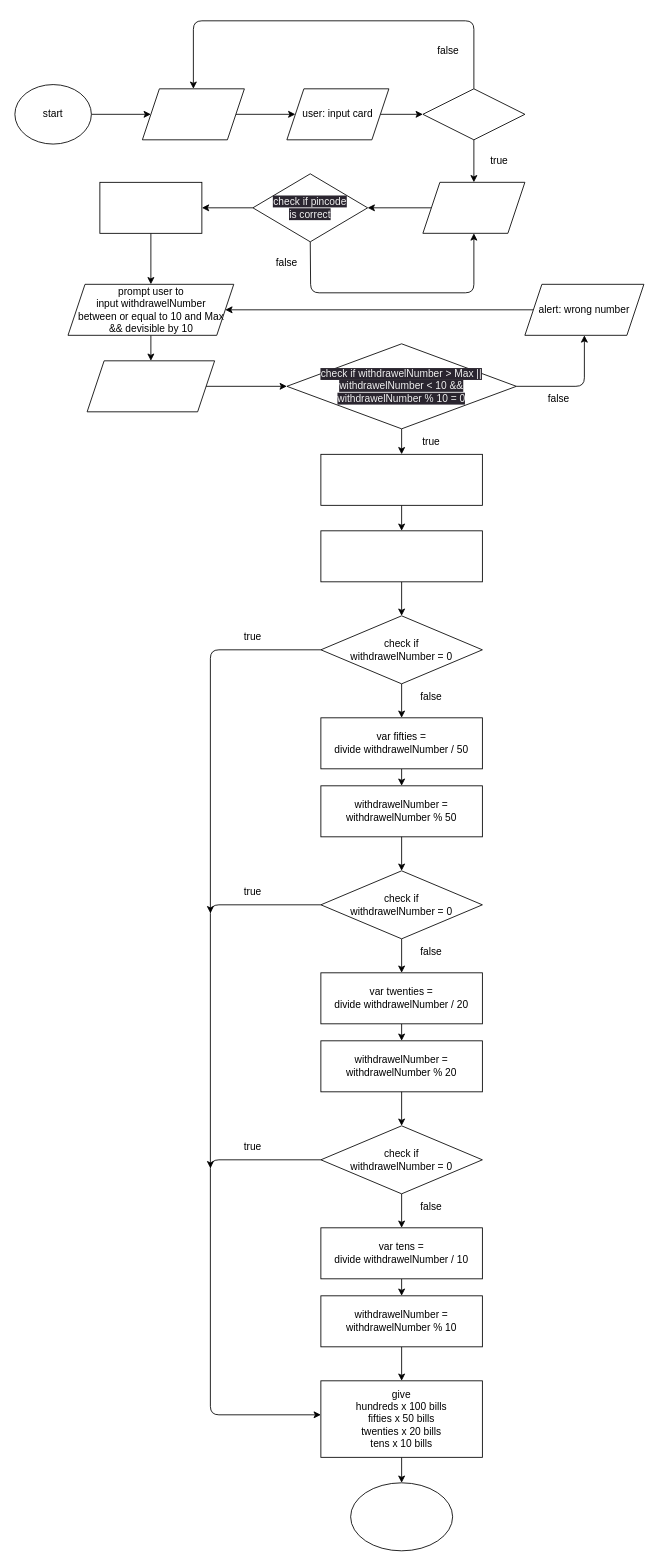
Image size: 659x1566. Some labels were removed from this diagram. Here are the shapes that lost their labels. From the top down, the centre of each, then its label:
At point 193,114: "prompt user to insert card".
At point 473,114: "check if card is there".
At point 150,207: "check Max number".
At point 473,207: "prompt user to input pincode".
At point 150,386: "user: input withdrawelNumber".
At point 401,479: "var hundreds = divide withdrawelNumber / 100".
At point 401,556: "withdrawelNumber = withdrawelNumber % 100".
At point 401,1516: "end".
